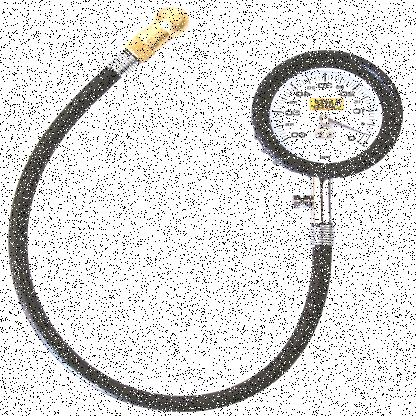needle: (329, 117, 365, 135)
